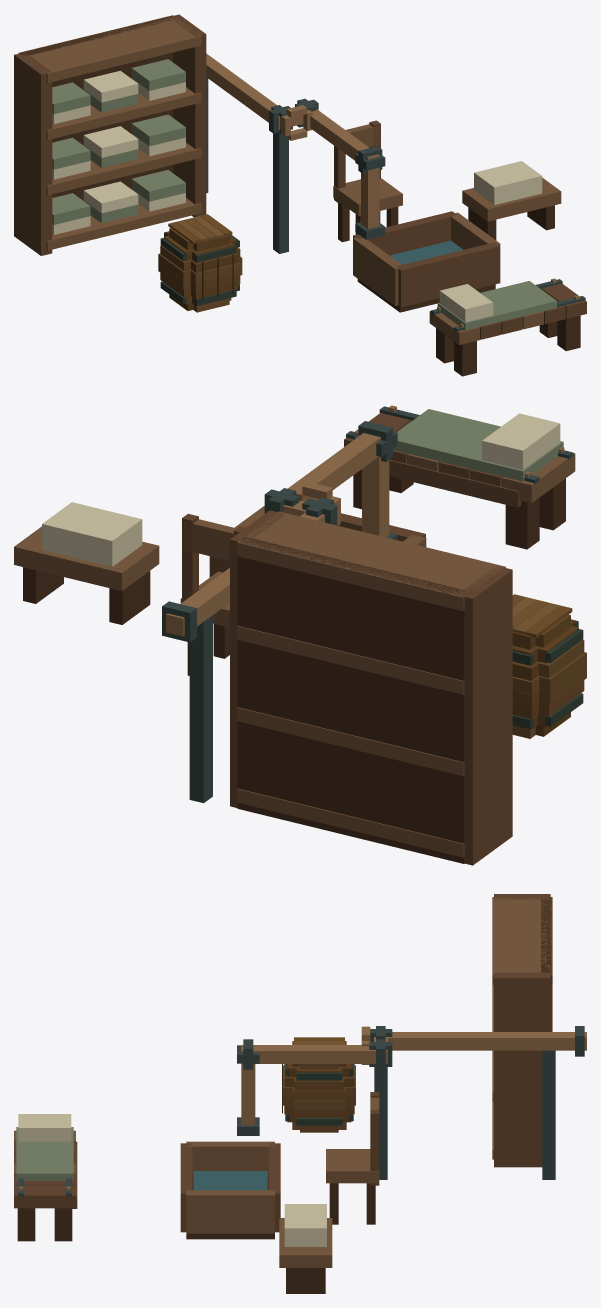
File: B24_relief.glb
3 renders of one model, top to bottom at view 1: azimuth 30°, elevation 25°; view 2: azimuth 150°, elevation 25°; view 3: azimuth 270°, elevation 25°, orthographic. The views are drawn at different scales.
Parts seen in each view (by area): view 1: B24_relief__clean_linen_ShelfBoard_woodlight, B24_relief__clean_linen_ShelfUpright_wood, B24_relief__clean_linen_FoldedCloth_cloth, B24_relief__water_reuse_Prop_Barrel_NW, B24_relief__clean_linen_FoldedCloth_bone, B24_relief__main_station_BasinSide_wood, B24_relief__main_station_Pipe_copper, B24_relief__main_station_BasinSide_woodlight, B24_relief__clean_linen_ShelfBack_wooddark, B24_relief__rest_bench_Blanket_cloth, B24_relief__main_station_PipeSupport_iron, B24_relief__rest_bench_TableLegs_wooddark (+14 smaller); view 2: B24_relief__clean_linen_ShelfBack_wooddark, B24_relief__clean_linen_ShelfBoard_woodlight, B24_relief__clean_linen_ShelfUpright_wood, B24_relief__water_reuse_Prop_Barrel_NW, B24_relief__main_station_Pipe_copper, B24_relief__rest_bench_Blanket_cloth, B24_relief__main_station_FoldedTowel_bone, B24_relief__main_station_PipeSupport_iron, B24_relief__main_station_TowelBench_woodlight, B24_relief__rest_bench_TableLegs_wooddark, B24_relief__main_station_PipeFlange_iron, B24_relief__rest_bench_Cushion_bone (+9 smaller); view 3: B24_relief__clean_linen_ShelfUpright_wood, B24_relief__main_station_Pipe_copper, B24_relief__main_station_BasinSide_woodlight, B24_relief__water_reuse_Prop_Barrel_NW, B24_relief__clean_linen_ShelfBoard_woodlight, B24_relief__main_station_PipeSupport_iron, B24_relief__rest_bench_Blanket_cloth, B24_relief__main_station_PipeFlange_iron, B24_relief__main_station_FoldedTowel_bone, B24_relief__rest_bench_TableTop_wood, B24_relief__main_station_BasinSide_wood, B24_relief__main_station_Seat_woodlight (+9 smaller).
Part boxes in pixels (x1,y1,x2,y2): B24_relief__clean_linen_ShelfBoard_woodlight: (18, 15, 201, 250); B24_relief__clean_linen_ShelfUpright_wood: (14, 14, 206, 255); B24_relief__clean_linen_FoldedCloth_cloth: (52, 59, 185, 224); B24_relief__water_reuse_Prop_Barrel_NW: (158, 214, 242, 312); B24_relief__clean_linen_FoldedCloth_bone: (52, 70, 185, 234); B24_relief__main_station_BasinSide_wood: (353, 211, 500, 307); B24_relief__main_station_Pipe_copper: (206, 53, 379, 228); B24_relief__main_station_BasinSide_woodlight: (353, 212, 500, 305); B24_relief__clean_linen_ShelfBack_wooddark: (19, 15, 177, 200); B24_relief__rest_bench_Blanket_cloth: (437, 281, 556, 330); B24_relief__main_station_PipeSupport_iron: (206, 77, 288, 253); B24_relief__rest_bench_TableLegs_wooddark: (436, 315, 580, 376); B24_relief__clean_linen_ShelfBack_wooddark: (237, 536, 470, 863); B24_relief__clean_linen_ShelfBoard_woodlight: (236, 511, 505, 857); B24_relief__clean_linen_ShelfUpright_wood: (230, 510, 512, 865); B24_relief__water_reuse_Prop_Barrel_NW: (512, 594, 586, 738); B24_relief__main_station_Pipe_copper: (166, 433, 389, 636); B24_relief__rest_bench_Blanket_cloth: (393, 409, 563, 481); B24_relief__main_station_FoldedTowel_bone: (42, 502, 142, 566); B24_relief__main_station_PipeSupport_iron: (189, 615, 212, 803); B24_relief__main_station_TowelBench_woodlight: (14, 526, 159, 590); B24_relief__rest_bench_TableLegs_wooddark: (353, 469, 565, 549); B24_relief__main_station_PipeFlange_iron: (162, 421, 397, 642); B24_relief__rest_bench_Cushion_bone: (482, 413, 560, 469); B24_relief__clean_linen_ShelfUpright_wood: (494, 894, 550, 1167); B24_relief__main_station_Pipe_copper: (241, 1032, 586, 1125); B24_relief__main_station_BasinSide_woodlight: (186, 1141, 274, 1233); B24_relief__water_reuse_Prop_Barrel_NW: (282, 1037, 355, 1132); B24_relief__clean_linen_ShelfBoard_woodlight: (492, 897, 552, 1159); B24_relief__main_station_PipeSupport_iron: (374, 1050, 555, 1179); B24_relief__rest_bench_Blanket_cloth: (16, 1127, 73, 1180); B24_relief__main_station_PipeFlange_iron: (237, 1026, 584, 1135); B24_relief__main_station_FoldedTowel_bone: (284, 1204, 326, 1246); B24_relief__rest_bench_TableTop_wood: (14, 1141, 75, 1208); B24_relief__main_station_BasinSide_wood: (180, 1143, 280, 1232); B24_relief__main_station_Seat_woodlight: (326, 1149, 379, 1183).
Size of the model in its own units: 5.68 by 2.36 by 6.48.
